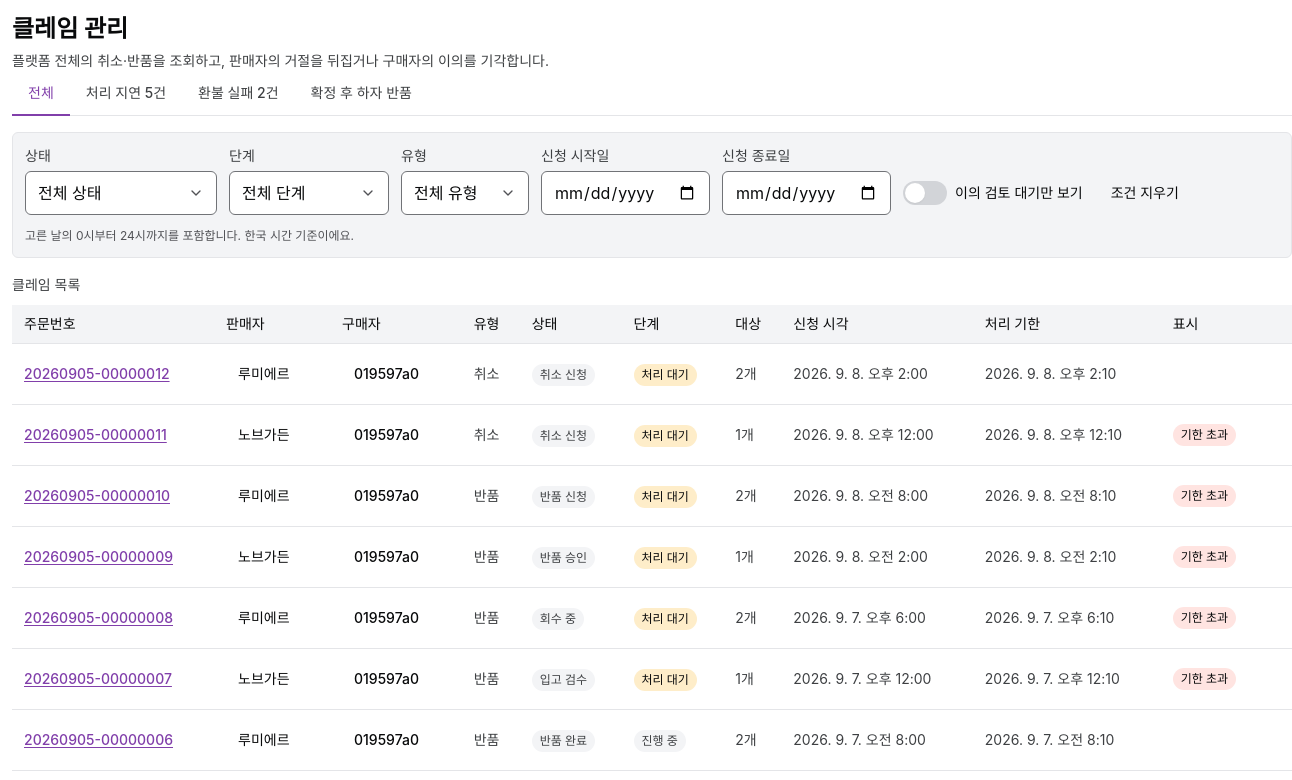
Scenario: 대상을 찾는 자리 › 주문번호를 넣으면 「형식이 틀렸다」가 아니라 그 사실을 말한다
The width and height of the screenshot is (1292, 780).
Click the tab "확정 후 하자 반품" at (361, 94), box x1=295 y1=72 x2=428 y2=116
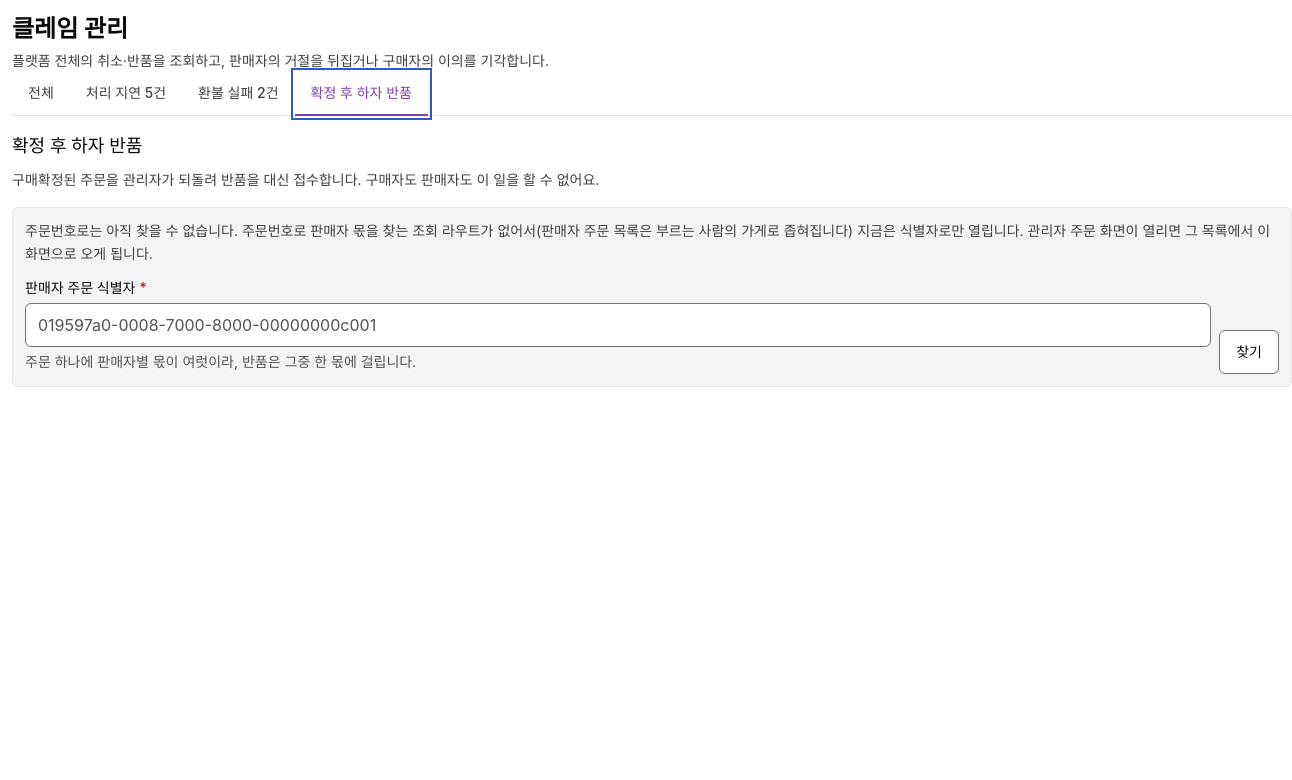
Expected: the field labelled "판매자 주문 식별자" is shown
Type "20260901-000000C1" into the field labelled "판매자 주문 식별자" at (618, 325), box x1=25 y1=303 x2=1211 y2=347
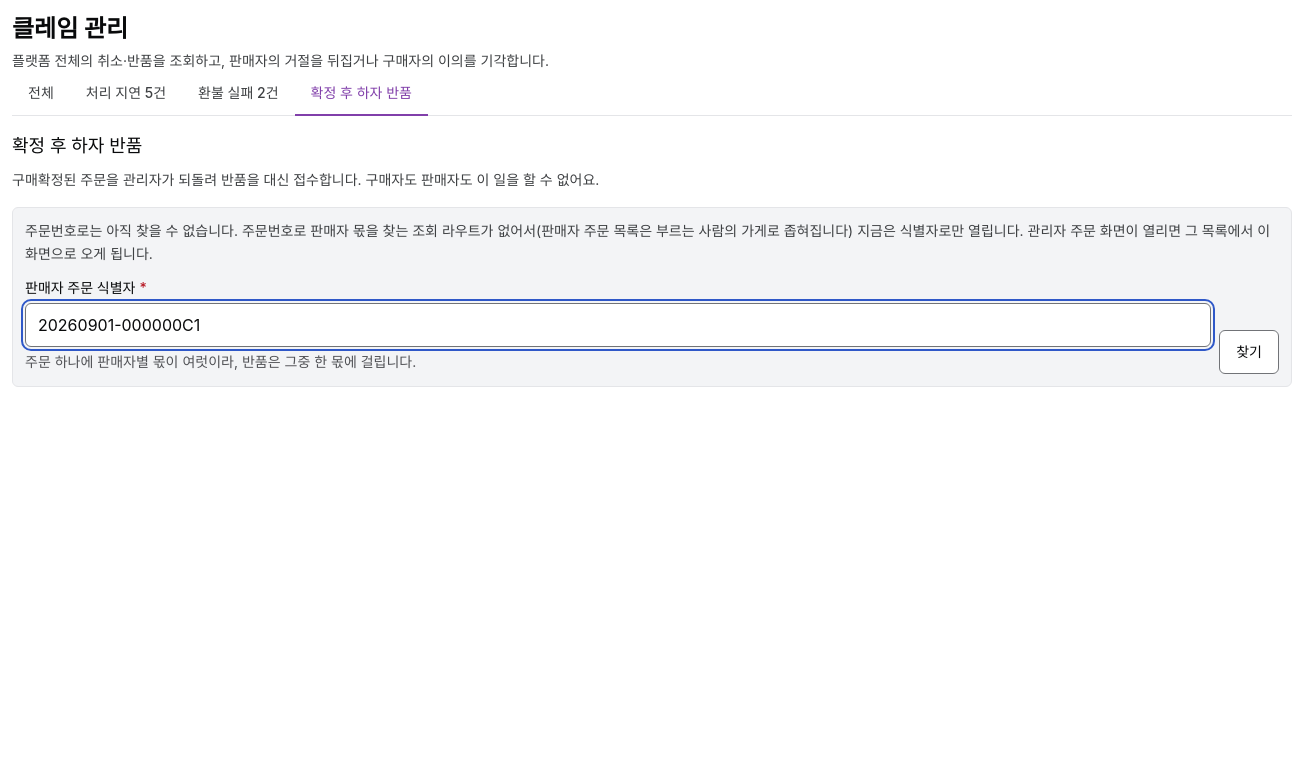
Click the button "찾기" at (1249, 352), box x1=1219 y1=330 x2=1279 y2=374
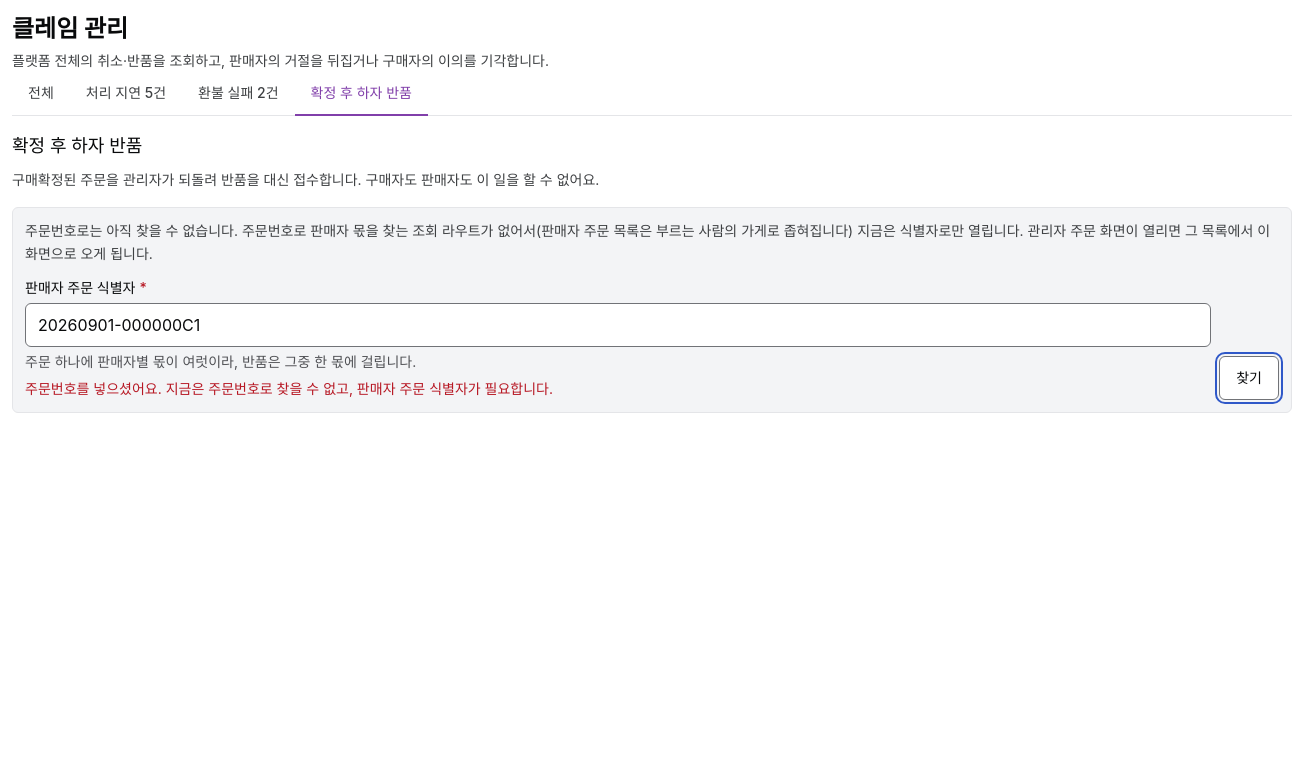
Expected: the text "주문번호를 넣으셨어요. 지금은 주문번호로 찾을 수 없고, 판매자 주문 식별자가 필요합니다." is shown, x1=25 y1=380 x2=553 y2=397
